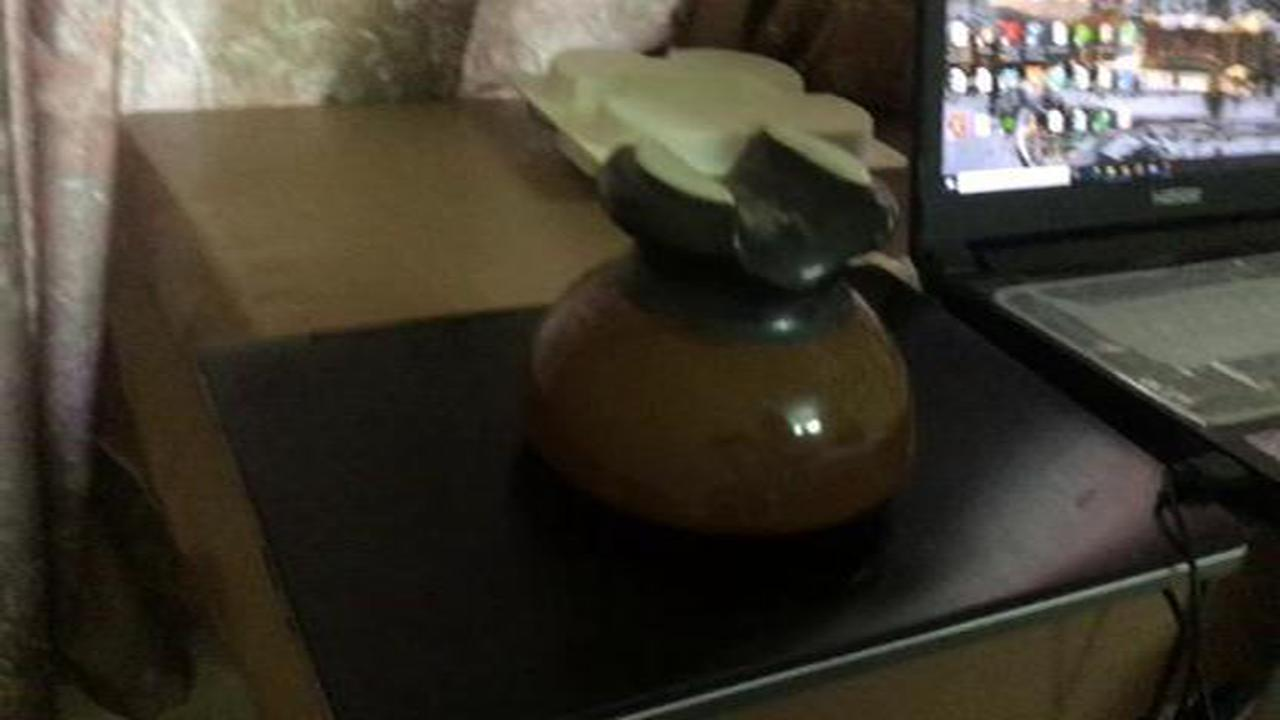insulator_pin: (502, 110, 951, 553)
